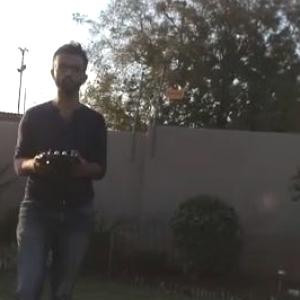follow: (6, 34, 112, 299)
